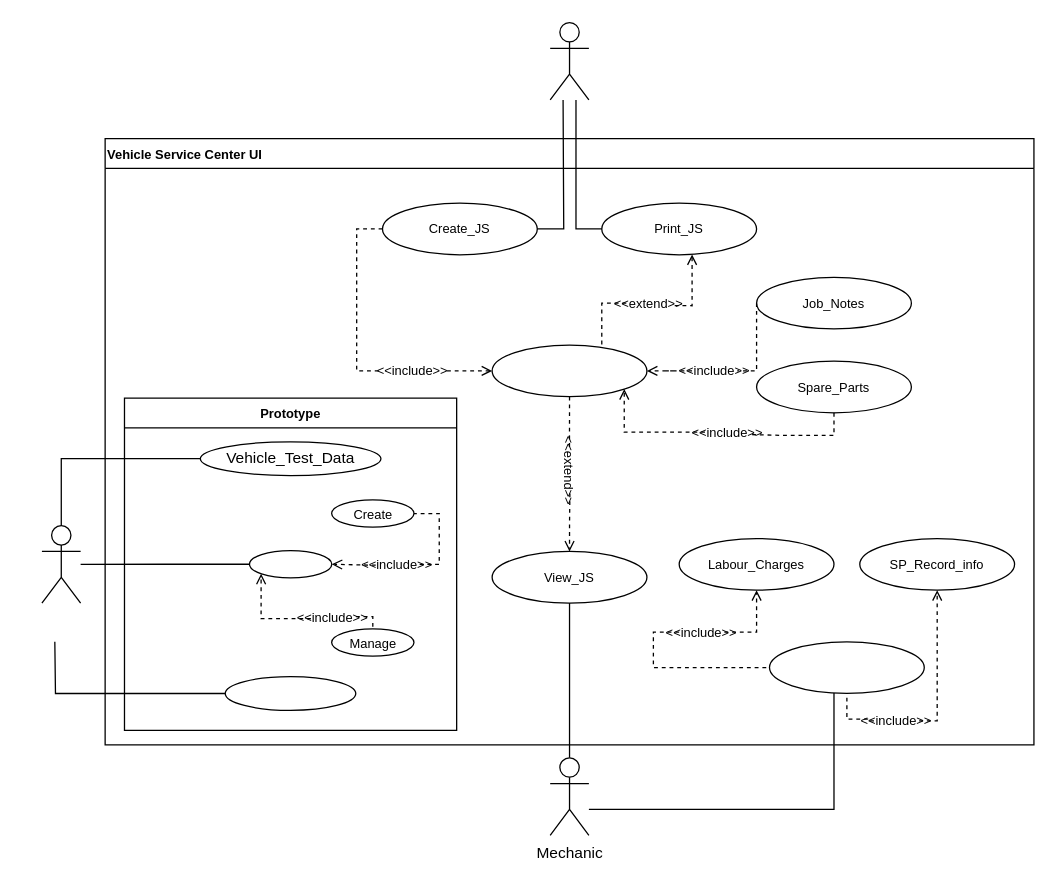
This 1057x885 diagram has some shape labels left out. The centre of each missing label's shape, as x and y in pixels:
"Job_Sheet" goes at point (569, 370).
"Records" goes at point (846, 666).
"Service_Advisor" goes at point (569, 60).
"Sys_Admin" goes at point (61, 563).
"Twitter_API" goes at point (290, 692).
"Users" goes at point (290, 563).
